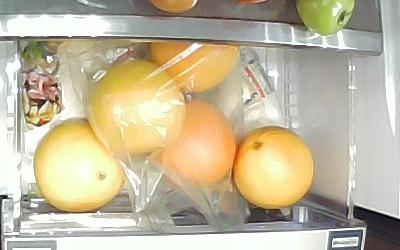grapefruit: (35, 119, 125, 213), (235, 125, 315, 209)
grapefruit_vinyl: (87, 58, 184, 155), (161, 100, 235, 186), (147, 42, 239, 92)
